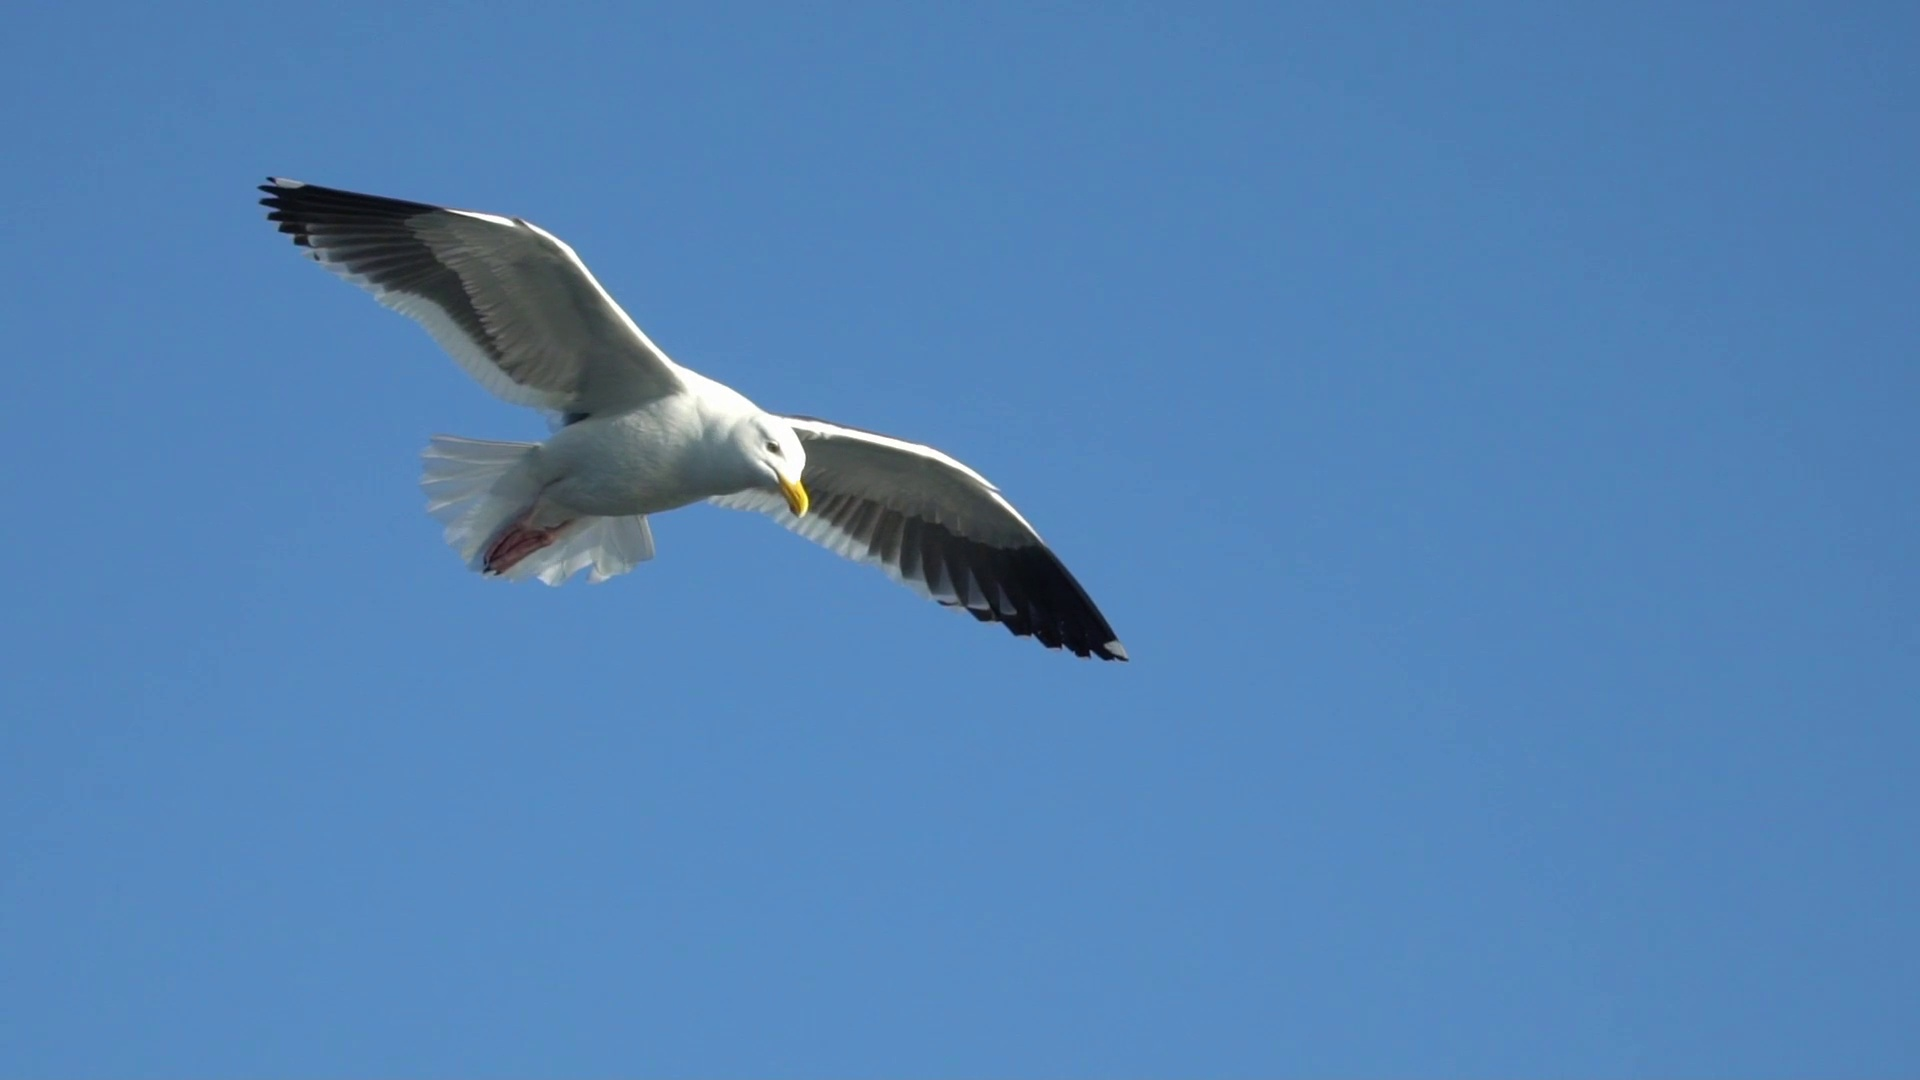bird: (260, 171, 1126, 663)
